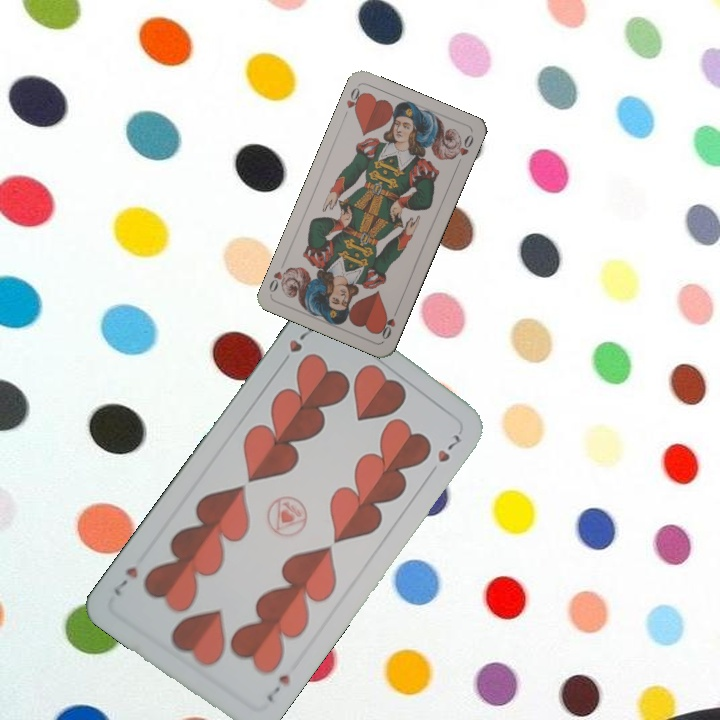H7: (276, 319, 317, 369), (262, 670, 293, 705)
HO: (339, 83, 367, 121), (376, 304, 401, 342)
